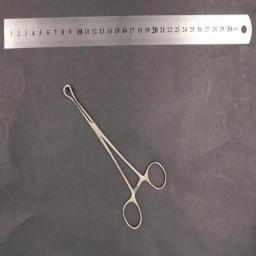Babcock Tissue Forceps: (62, 84, 168, 230)
